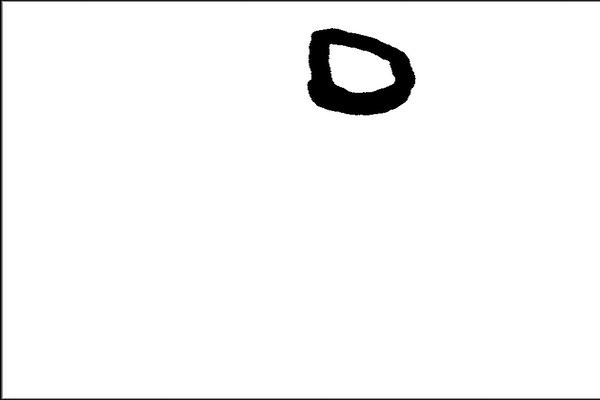O: (300, 19, 420, 123)
